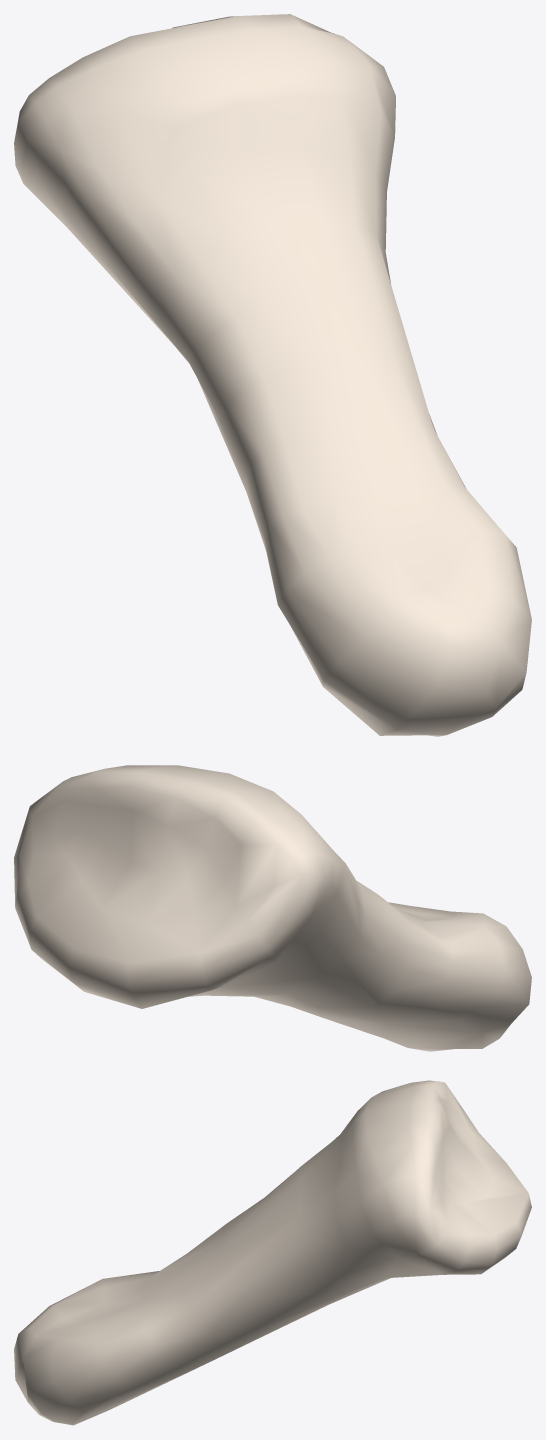
File: right_digit_3_distal.glb
The picture shows the model from 3 angles, top to bottom: view 1: azimuth 30°, elevation 25°; view 2: azimuth 150°, elevation 25°; view 3: azimuth 270°, elevation 25°; orthographic projection. The views are drawn at different scales.
Parts seen in each view (by area): view 1: Distal phalanx of 3d finger.r; view 2: Distal phalanx of 3d finger.r; view 3: Distal phalanx of 3d finger.r.
Part boxes in pixels (x1,y1,x2,y2): Distal phalanx of 3d finger.r: [14, 14, 531, 736]; Distal phalanx of 3d finger.r: [14, 765, 531, 1051]; Distal phalanx of 3d finger.r: [14, 1080, 531, 1425].
Bounding box in the file's own units: 0.00562 × 0.00758 × 0.0109.
